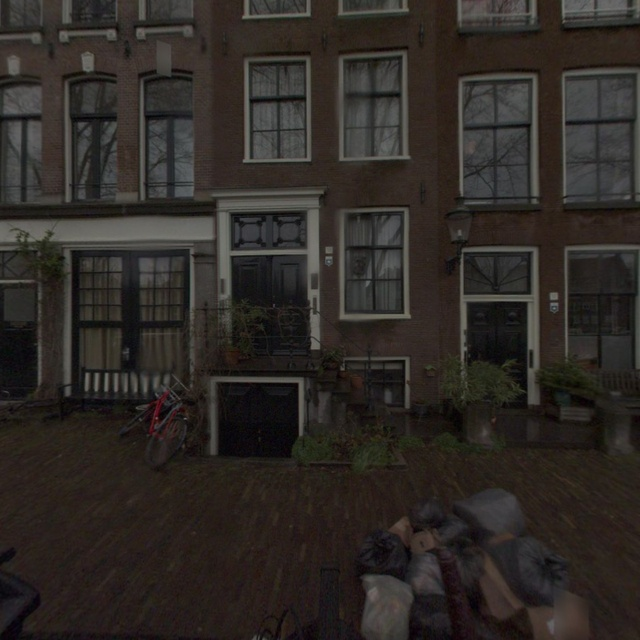Bulky Waste: (364, 486, 532, 640)
